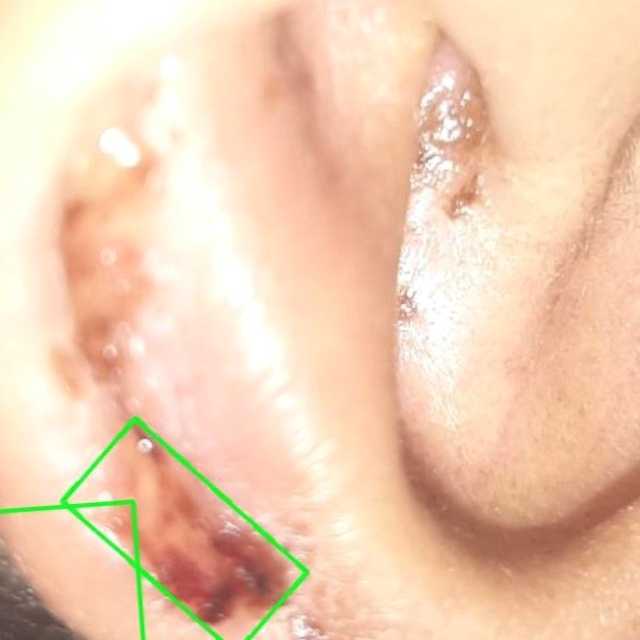Eczema: (62, 419, 307, 639), (0, 501, 143, 639)
